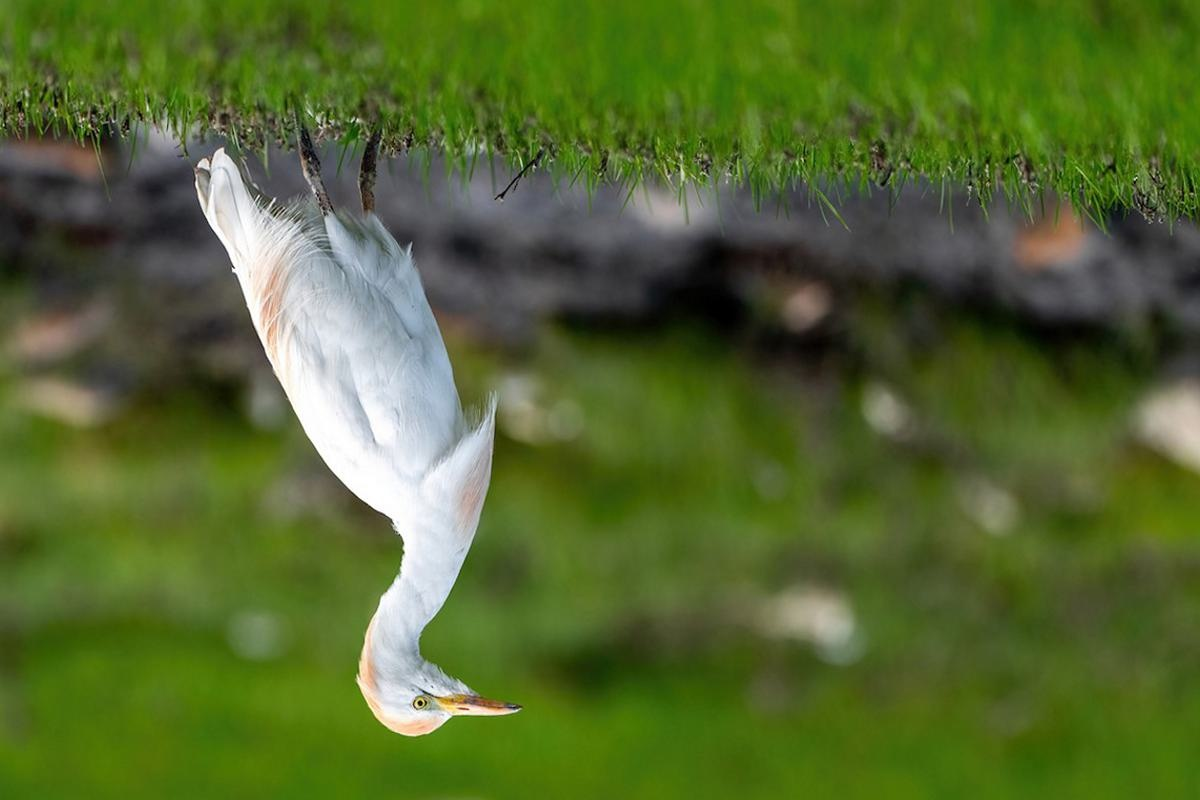egret: (180, 113, 530, 743)
